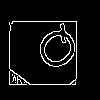Q: (24, 20, 85, 81)
